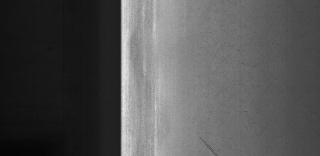silk spot: (186, 8, 290, 124)
water spot: (195, 134, 228, 156)
